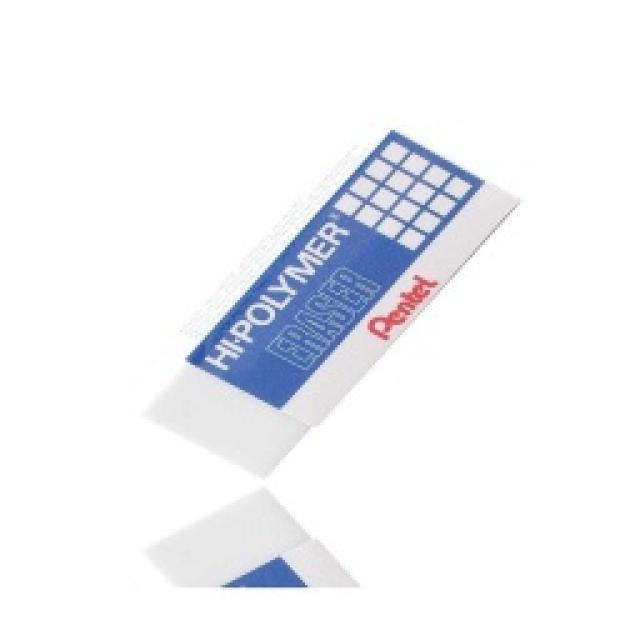Silgi: (143, 128, 522, 482)
